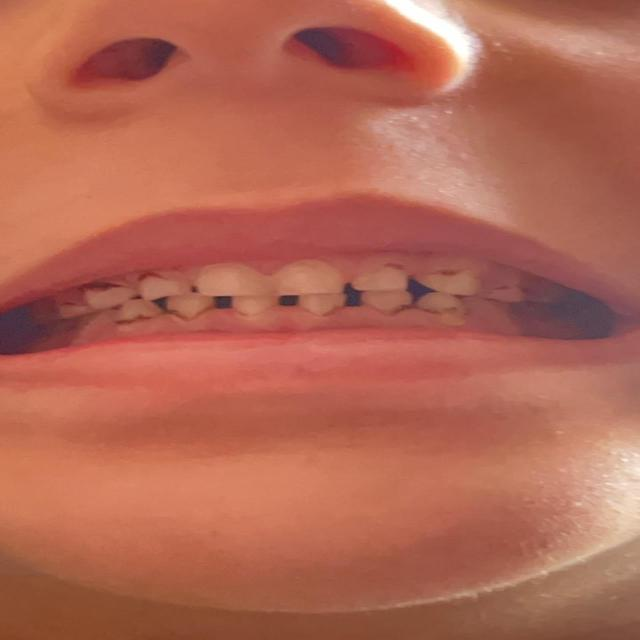tooth: (283, 264, 345, 294), (203, 268, 262, 294), (421, 264, 472, 294), (173, 295, 216, 317), (356, 269, 404, 288), (142, 276, 180, 296), (425, 296, 459, 317), (375, 292, 410, 312), (308, 292, 346, 310), (240, 300, 274, 318), (129, 300, 155, 320), (495, 280, 518, 302), (89, 291, 131, 303), (61, 302, 89, 318)
